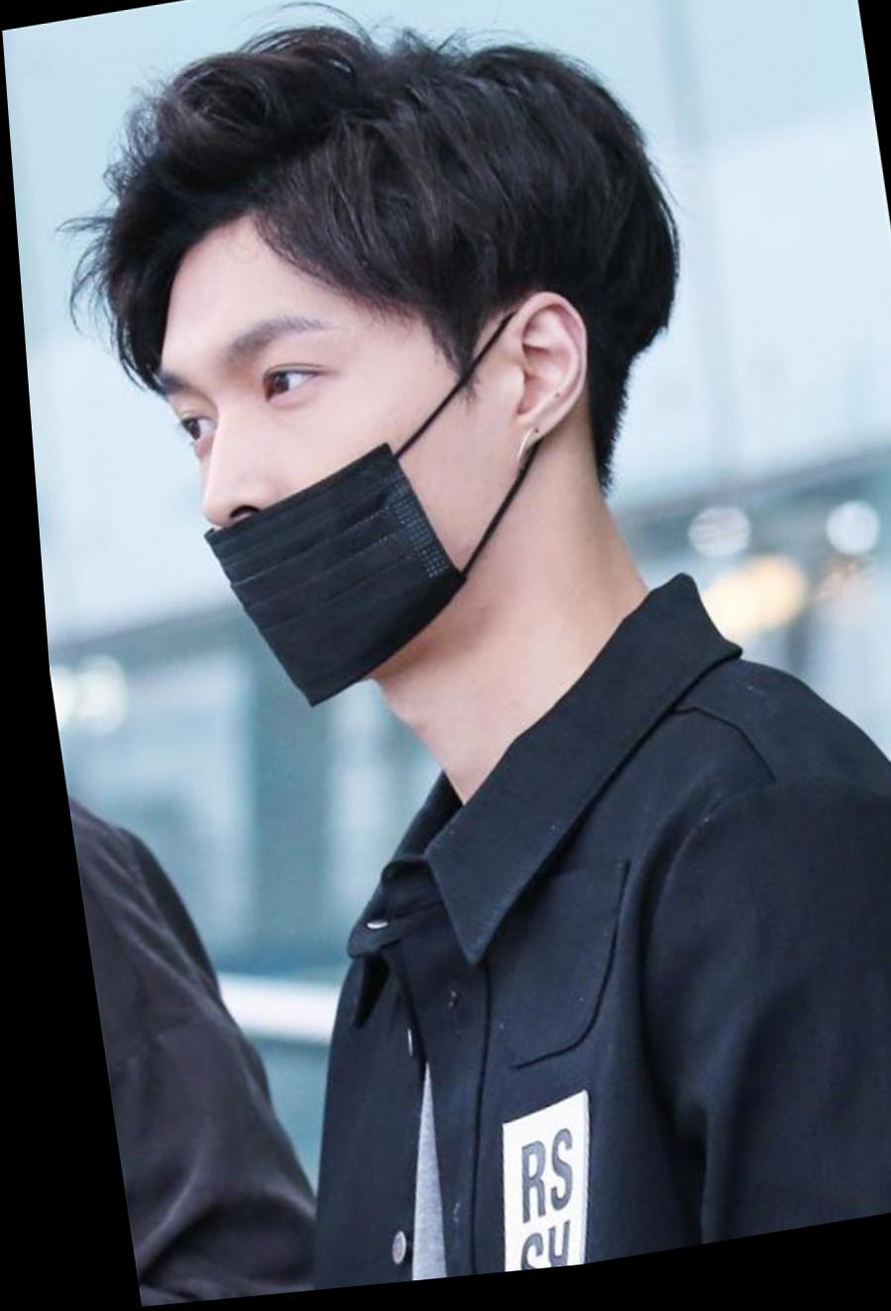WRONG: (137, 264, 498, 727)
